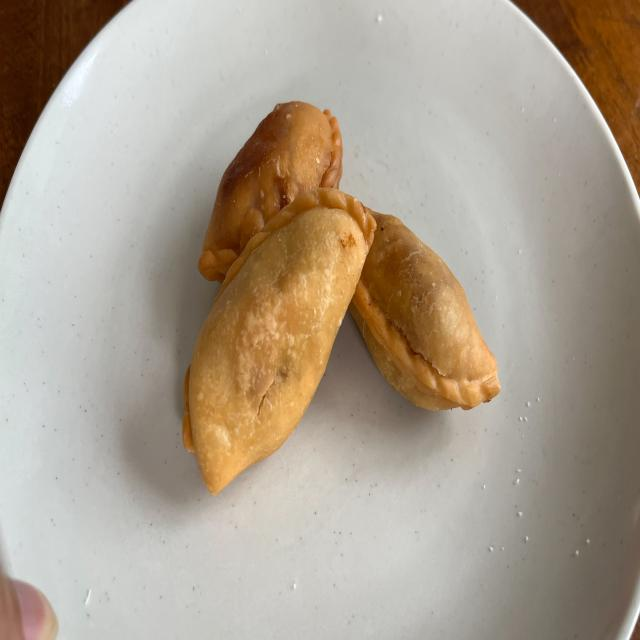karipap: (182, 189, 376, 496), (350, 211, 500, 409), (199, 102, 342, 282)
